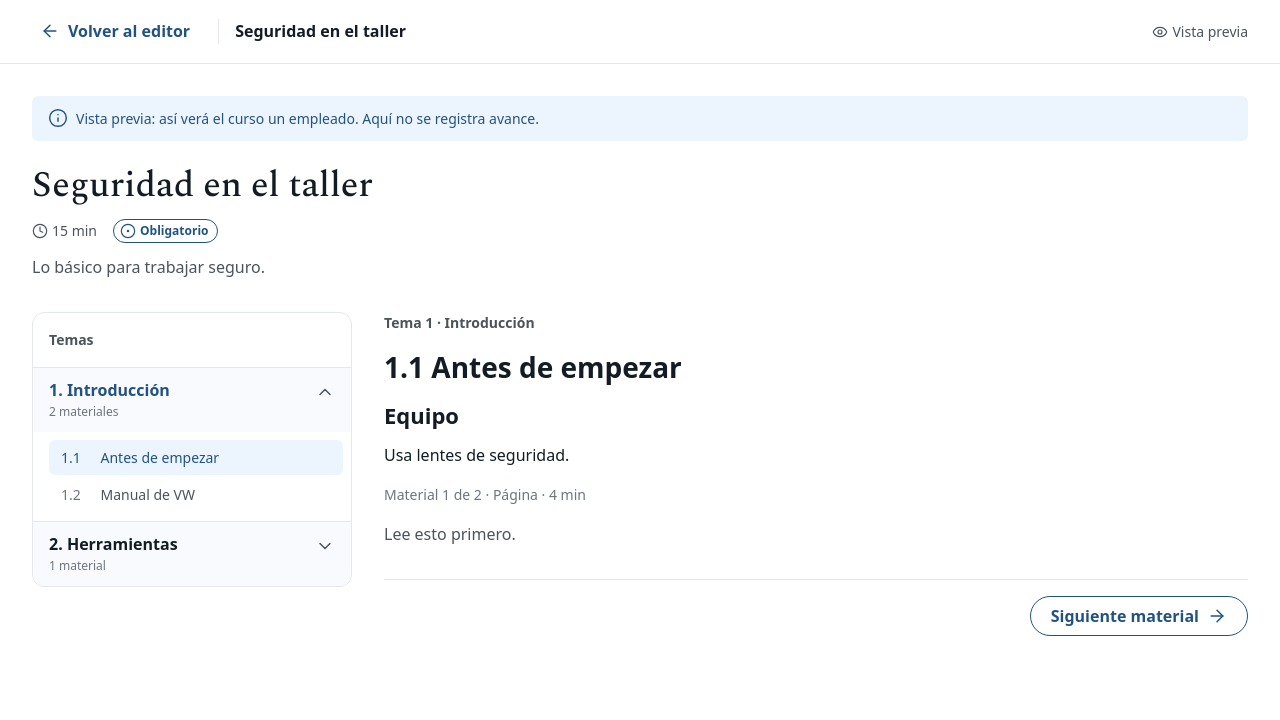
Vista previa del curso (HU-16) › cada tema se despliega y se pliega para mostrar sus materiales
Expected: the heading "1.1 Antes de empezar" is shown, [384,348,682,386]
Expected: the button "2.1 Catálogo" is not shown
Click the button "2. Herramientas 1 material".
click(122, 544)  # box [33,522,351,586]
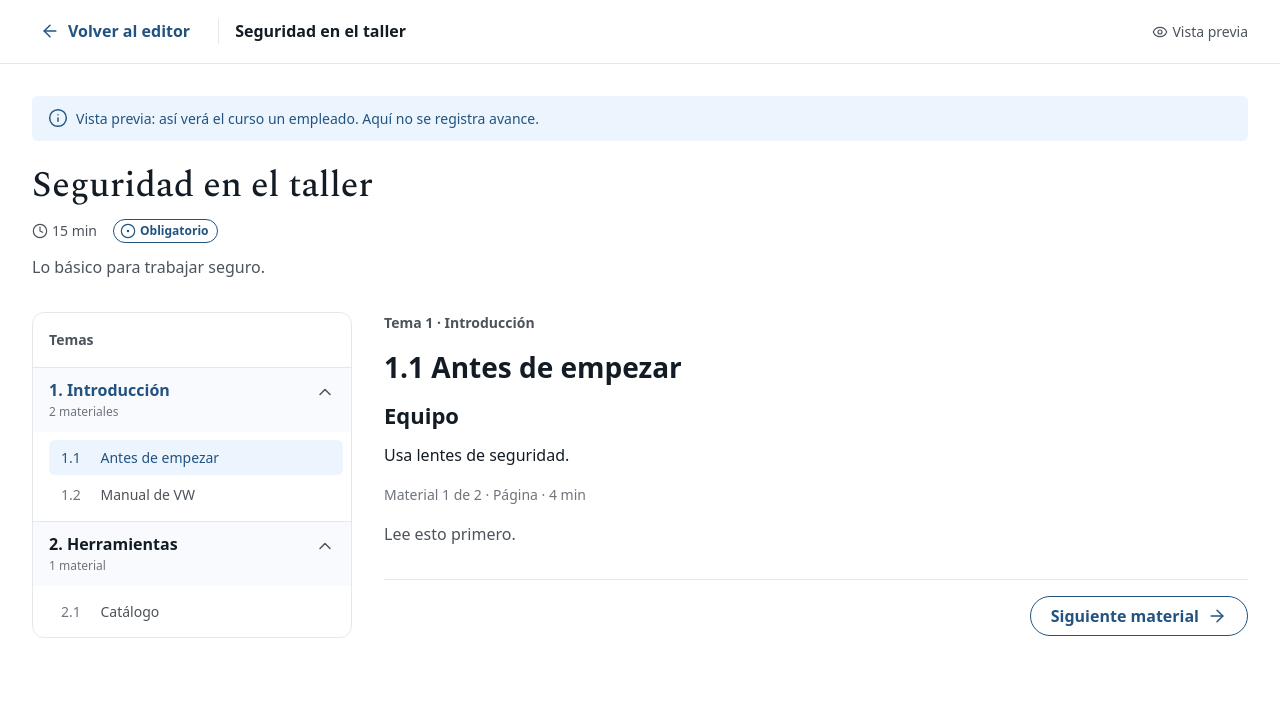
Result: the button "2. Herramientas 1 material" is expanded at [33,522,351,586]
Click the button "2.1 Catálogo".
click(130, 611)  # box [49,594,343,629]
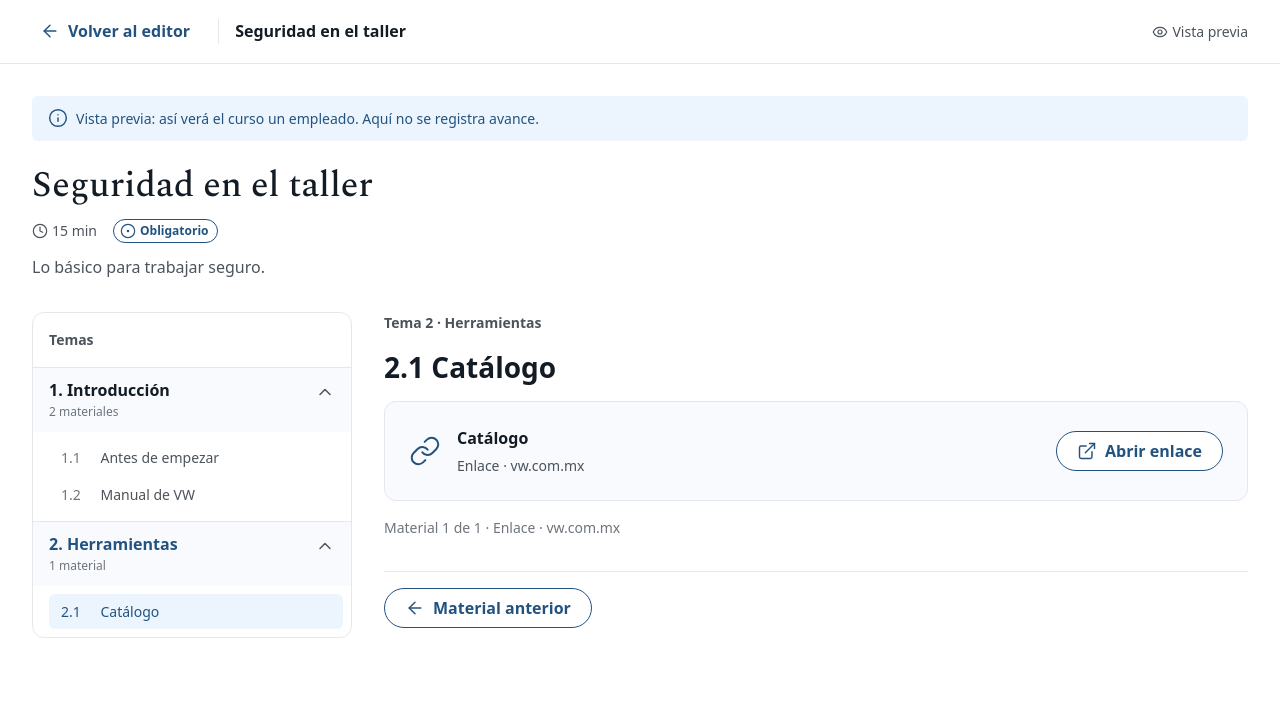
Result: the heading "Tema 2 · Herramientas" is shown at [384,313,541,332]
Click the button "1. Introducción 2 materiales".
click(118, 390)  # box [33,368,351,432]
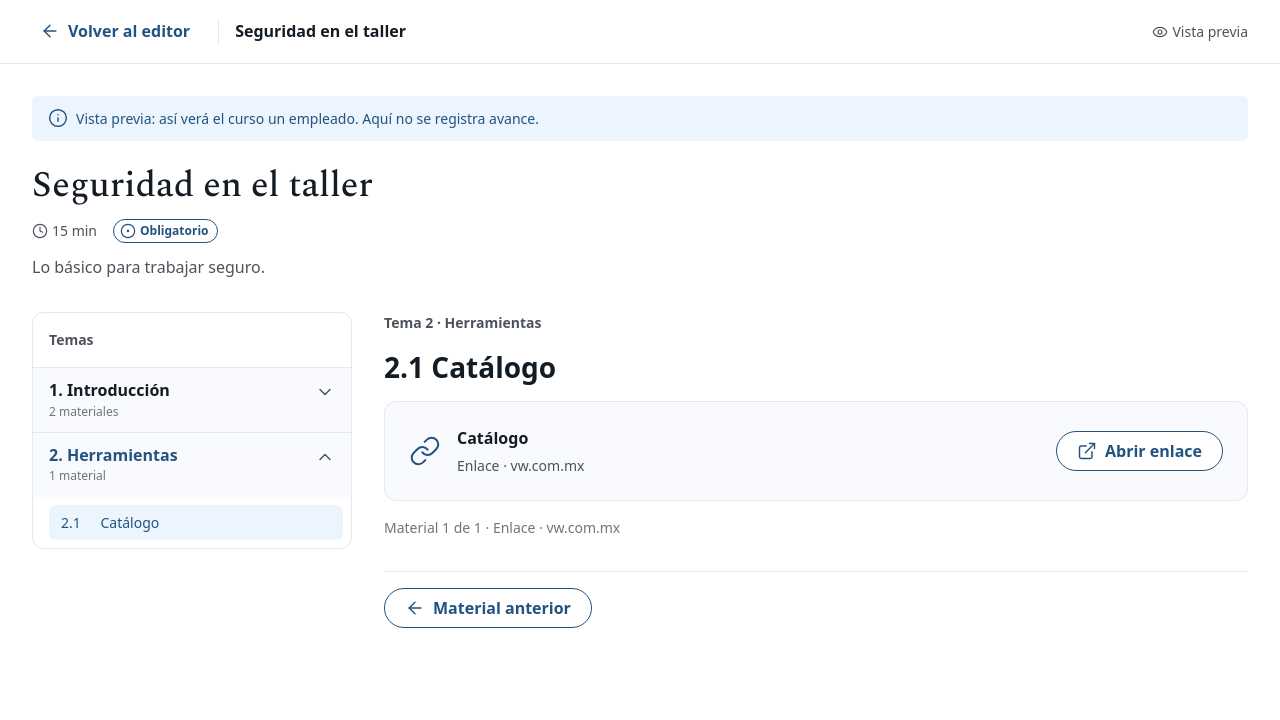
Result: the button "1. Introducción 2 materiales" is collapsed at [33,368,351,432]
Result: the button "1.1 Antes de empezar" is gone
